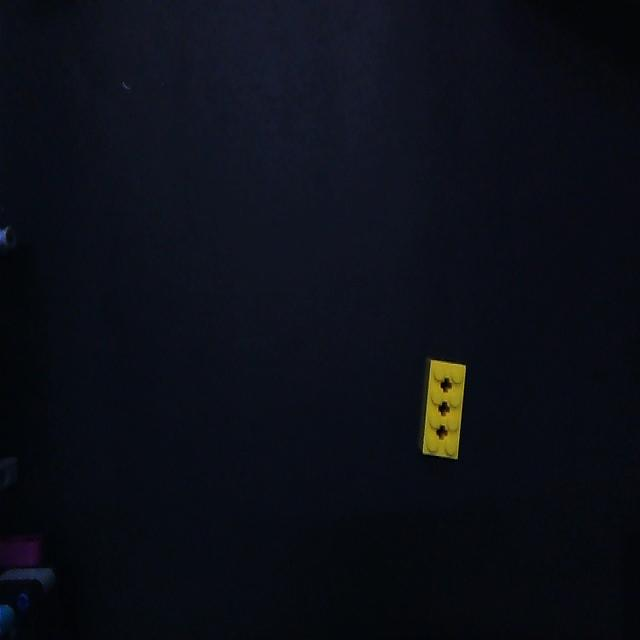lego_brick: (422, 359, 465, 457)
